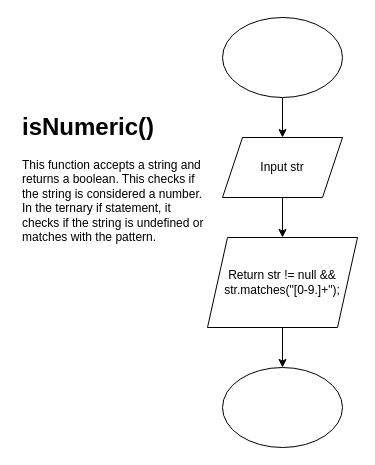
Image size: 375x465. Some labels were removed from this diagram. Here are the shapes that lost their labels. From the top down, the box of each, then its label:
(222, 16, 342, 98): Start
(222, 366, 342, 448): Stop
